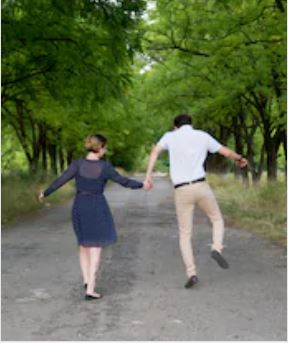Bad: (38, 113, 247, 299)
